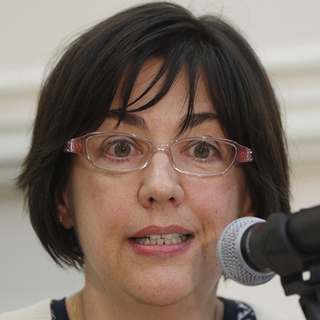eye: (100, 138, 144, 163), (183, 138, 225, 163)
